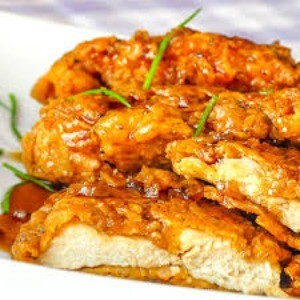chicken breast_brain food: (49, 90, 278, 221)
